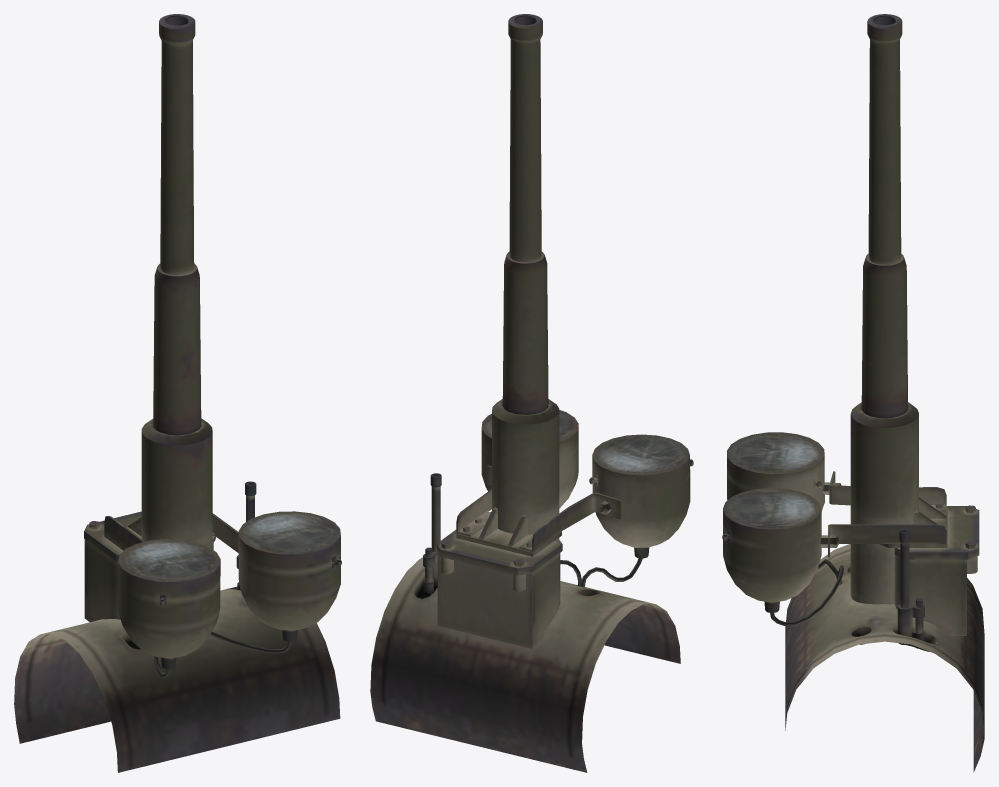
Rendered from Gun_01.glb.
The picture shows the model from 3 angles, left to right: view 1: azimuth 30°, elevation 25°; view 2: azimuth 150°, elevation 25°; view 3: azimuth 270°, elevation 25°; orthographic projection. The views are drawn at different scales.
Parts seen in each view (by area): view 1: set_0_group_0; view 2: set_0_group_0; view 3: set_0_group_0.
Boxes of the visible parts, left/top/right/bottom form: set_0_group_0: left=14, top=14, right=341, bottom=772; set_0_group_0: left=370, top=14, right=693, bottom=772; set_0_group_0: left=722, top=14, right=984, bottom=772.
Size of the model in its own units: 0.5 by 1.57 by 0.5321.
1 material, 1 textured.
